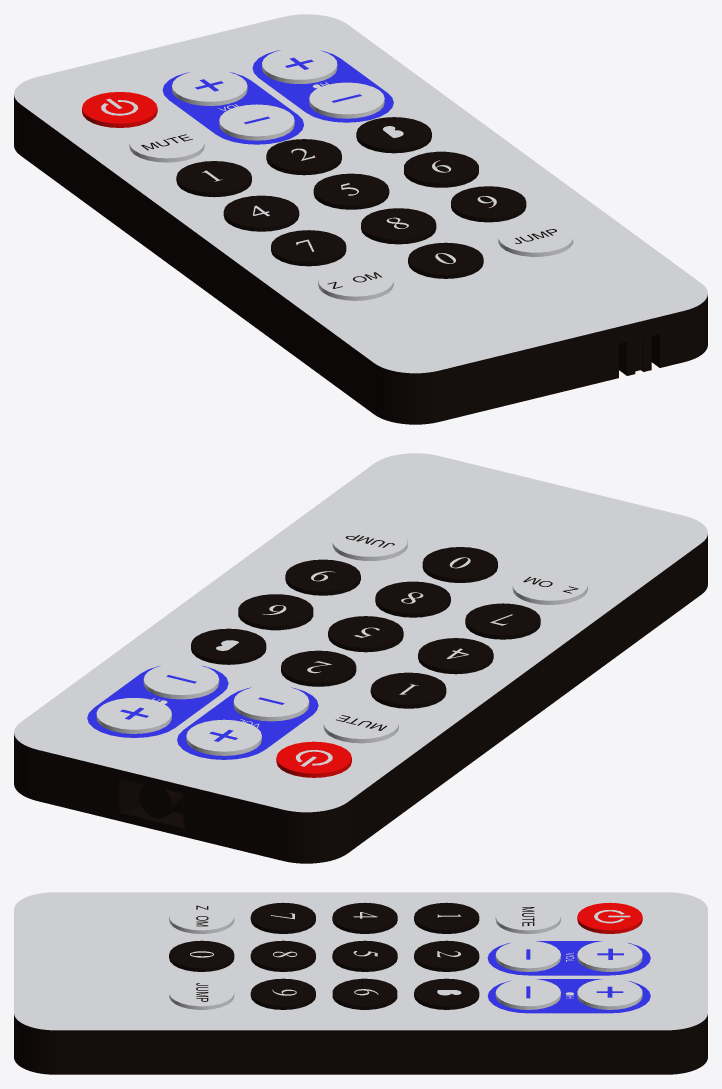
The model's file is BeamRemote.fbx.
3 renders of one model, top to bottom at view 1: azimuth 30°, elevation 25°; view 2: azimuth 150°, elevation 25°; view 3: azimuth 270°, elevation 25°, orthographic. The views are drawn at different scales.
Visible parts, largest first — view 1: Remote_controller1; view 2: Remote_controller1; view 3: Remote_controller1.
Part boxes in pixels (box(x1,y1,x2,y2)): Remote_controller1: box(14, 14, 707, 424); Remote_controller1: box(14, 453, 707, 863); Remote_controller1: box(14, 892, 707, 1074).
Size of the model in its own units: 40 by 6.53 by 85.
